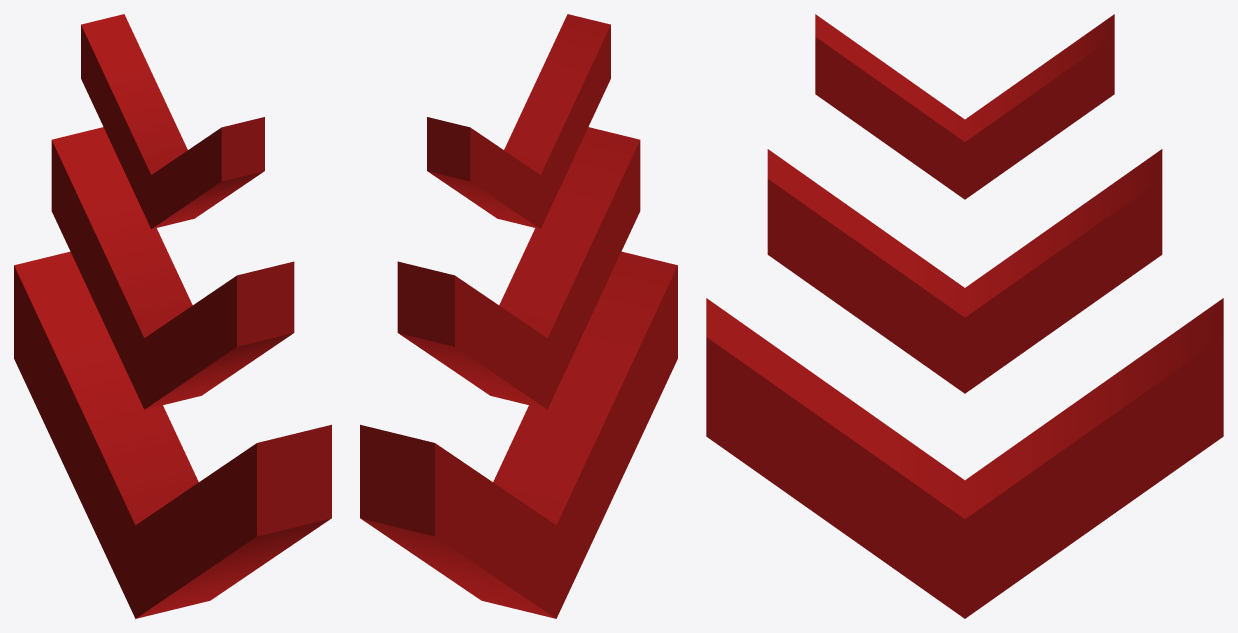
Rendered from Power_Slow.FBX.
3 views of the same model, side by side, from view 1: azimuth 30°, elevation 25°; view 2: azimuth 150°, elevation 25°; view 3: azimuth 270°, elevation 25° (orthographic). The views are drawn at different scales.
Visible parts, largest first — view 1: Power_Slow; view 2: Power_Slow; view 3: Power_Slow.
Part boxes in pixels (left/top/right/bottom): Power_Slow: left=14, top=14, right=331, bottom=618; Power_Slow: left=360, top=14, right=677, bottom=618; Power_Slow: left=706, top=14, right=1223, bottom=618.
Bounding box in the file's own units: 2.62 × 18 × 14.69.
